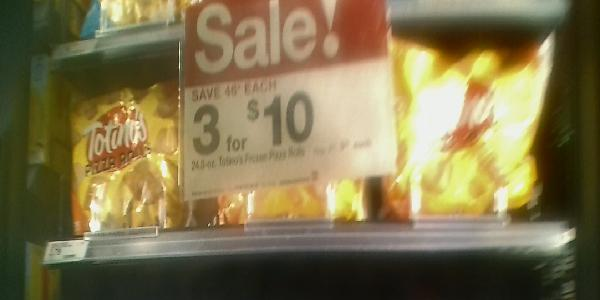icecream: (369, 20, 545, 225), (188, 66, 374, 224), (59, 76, 183, 231)
